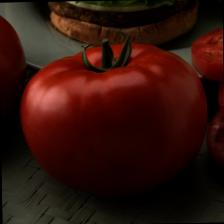tomato: (18, 37, 210, 200)
